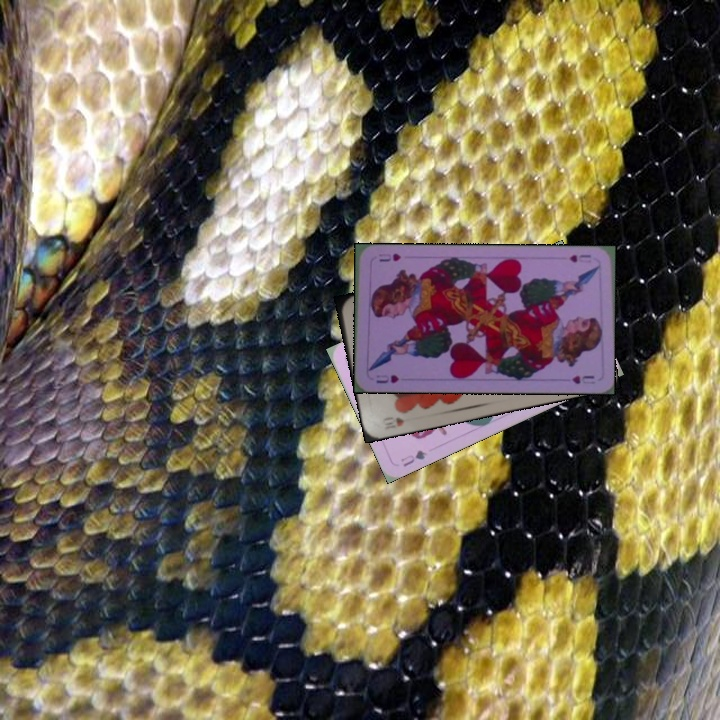GU: (397, 446, 429, 469)
H10: (380, 413, 407, 431)
HU: (372, 371, 402, 386), (566, 251, 594, 265)
